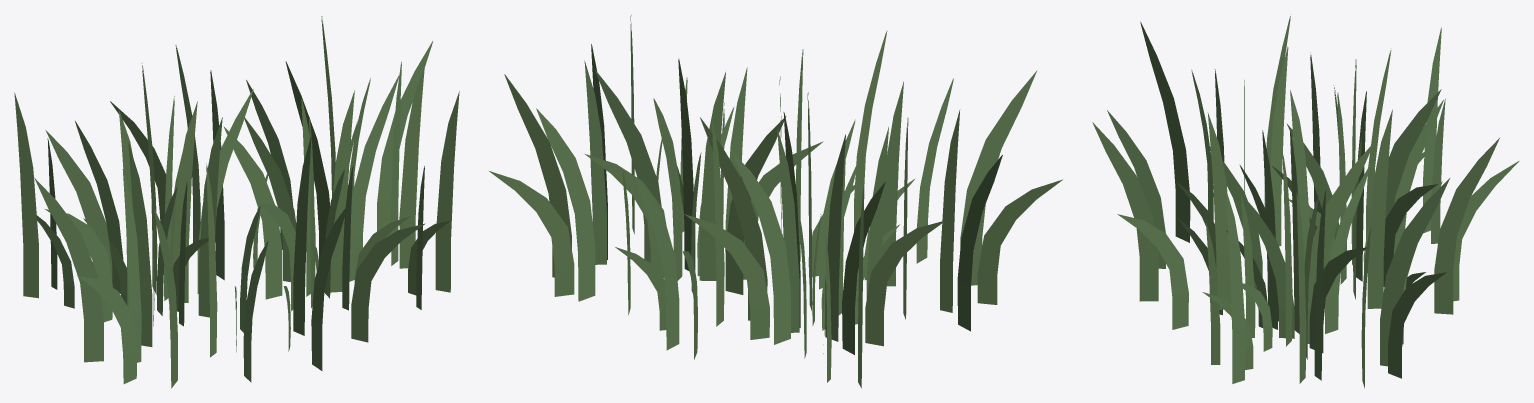
The model's file is Grass_03.fbx.
The picture shows the model from 3 angles, left to right: view 1: azimuth 30°, elevation 25°; view 2: azimuth 150°, elevation 25°; view 3: azimuth 270°, elevation 25°; orthographic projection. The views are drawn at different scales.
Parts seen in each view (by area): view 1: Grass_03; view 2: Grass_03; view 3: Grass_03.
Part boxes in pixels (x1,y1,x2,y2): Grass_03: (14,16,459,388); Grass_03: (489,15,1062,388); Grass_03: (1092,16,1519,388).
Size of the model in its own units: 37.31 by 16.99 by 31.39.
